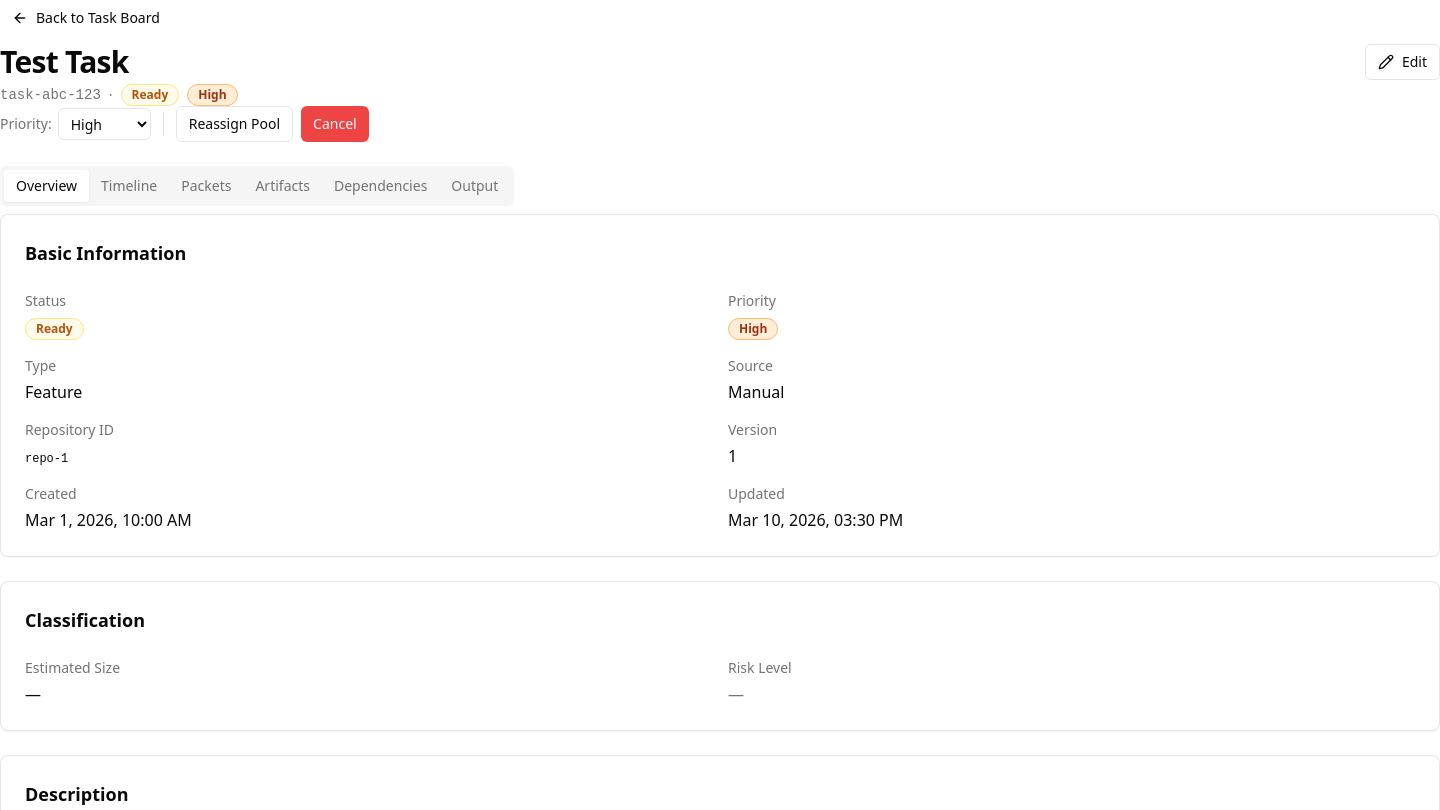
TaskActionBar integration › closes confirmation dialog without action on cancel
The width and height of the screenshot is (1440, 810).
What coordinates should you click on to do the following:
click the button with test id "action-btn-cancel"
I would click on:
 (335, 124)
Its box is [301,106,369,142].
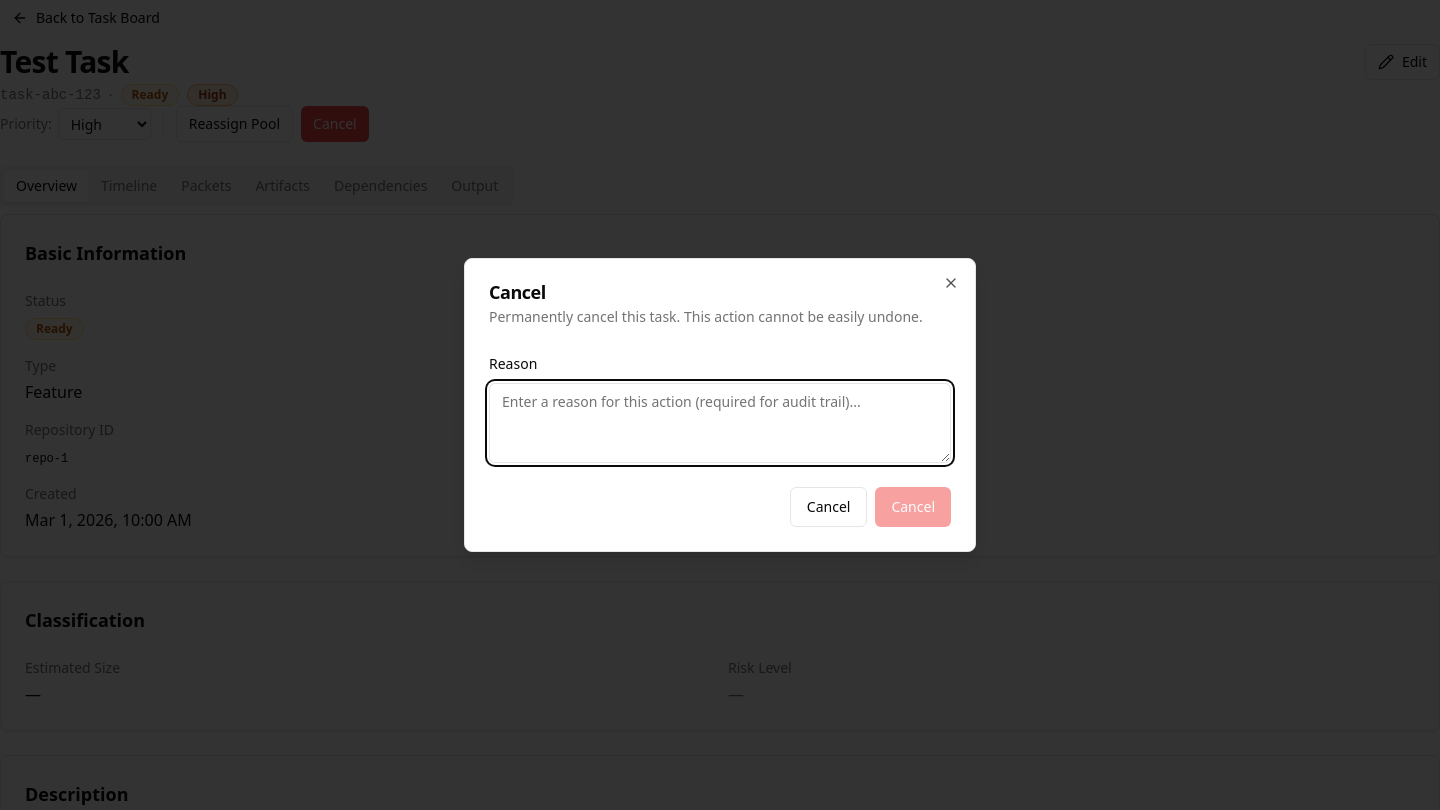
Result: the dialog with test id "confirm-action-dialog" is shown at [464,258,976,552]
What coordinates should you click on to do the following:
click the button with test id "confirm-dialog-cancel"
I would click on:
 (829, 507)
Its box is [790,487,867,527].
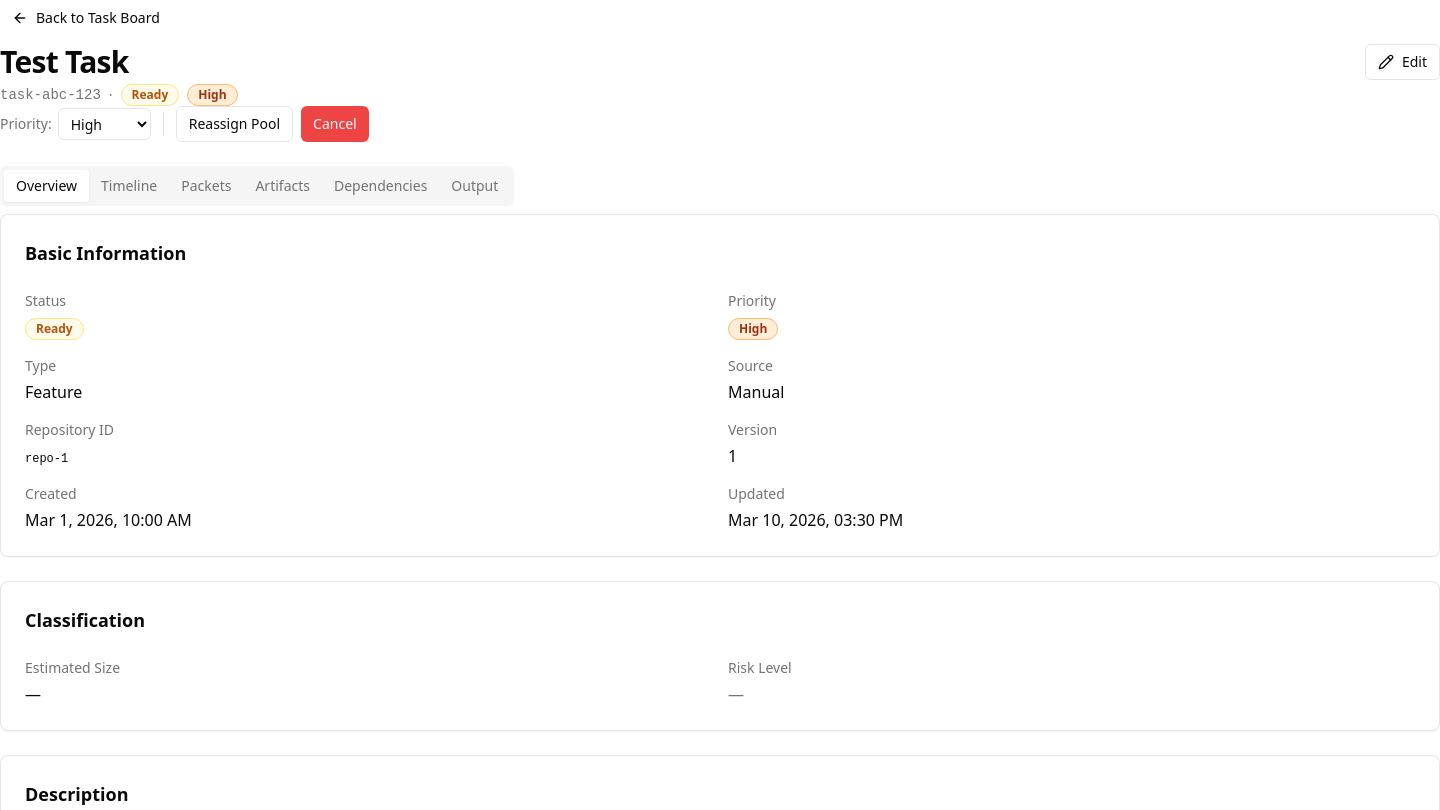
Result: the dialog with test id "confirm-action-dialog" is gone
